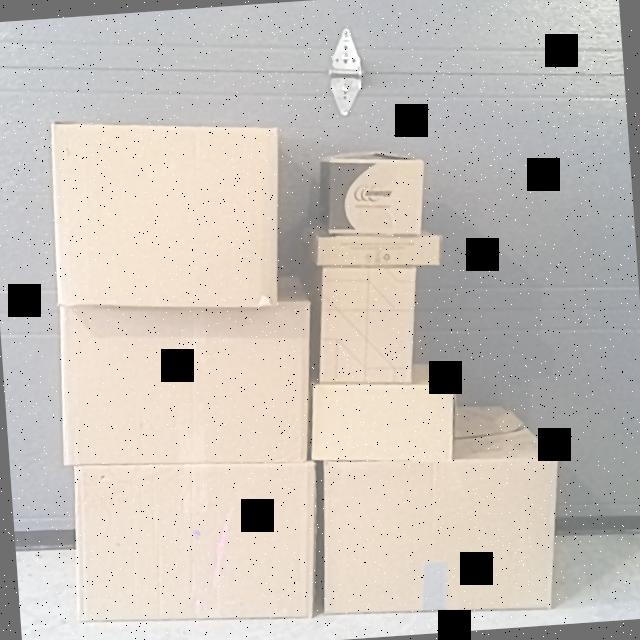box: (48, 120, 286, 314), (54, 296, 310, 474), (70, 460, 320, 626), (318, 452, 556, 616), (311, 380, 454, 464), (318, 261, 412, 387), (321, 156, 423, 234), (316, 232, 442, 274)
